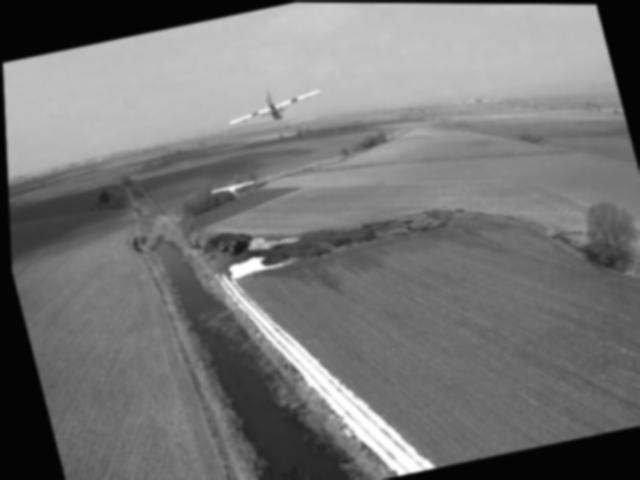hedef: (209, 63, 332, 153), (201, 165, 266, 208)
